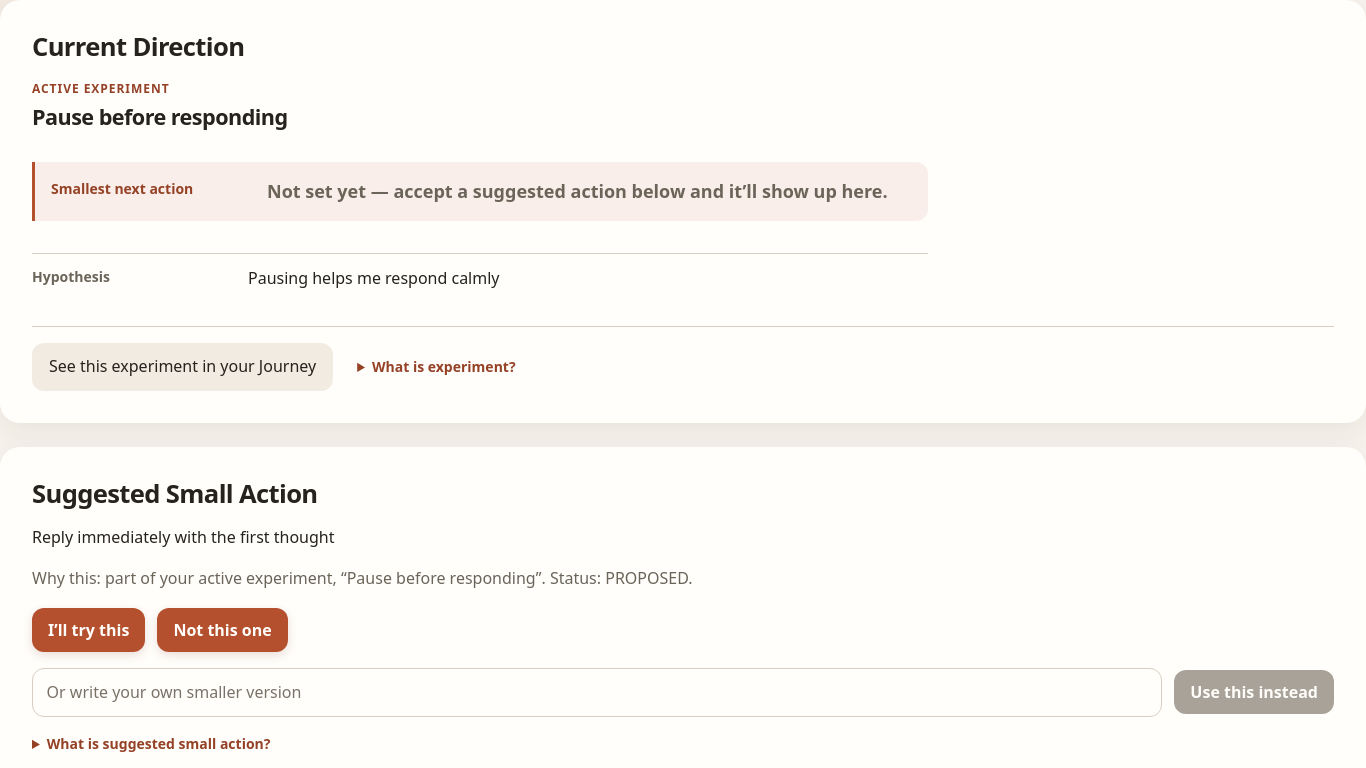
it: TodayPage › shows the replacement text after replacing a suggested action
The image size is (1366, 768).
Expected: the text "Reply immediately with the first thought" is shown, [32,526,334,548]
In the field named "Replacement suggestion": (597,692) [32,668,1162,717], type "Take one breath before replying"
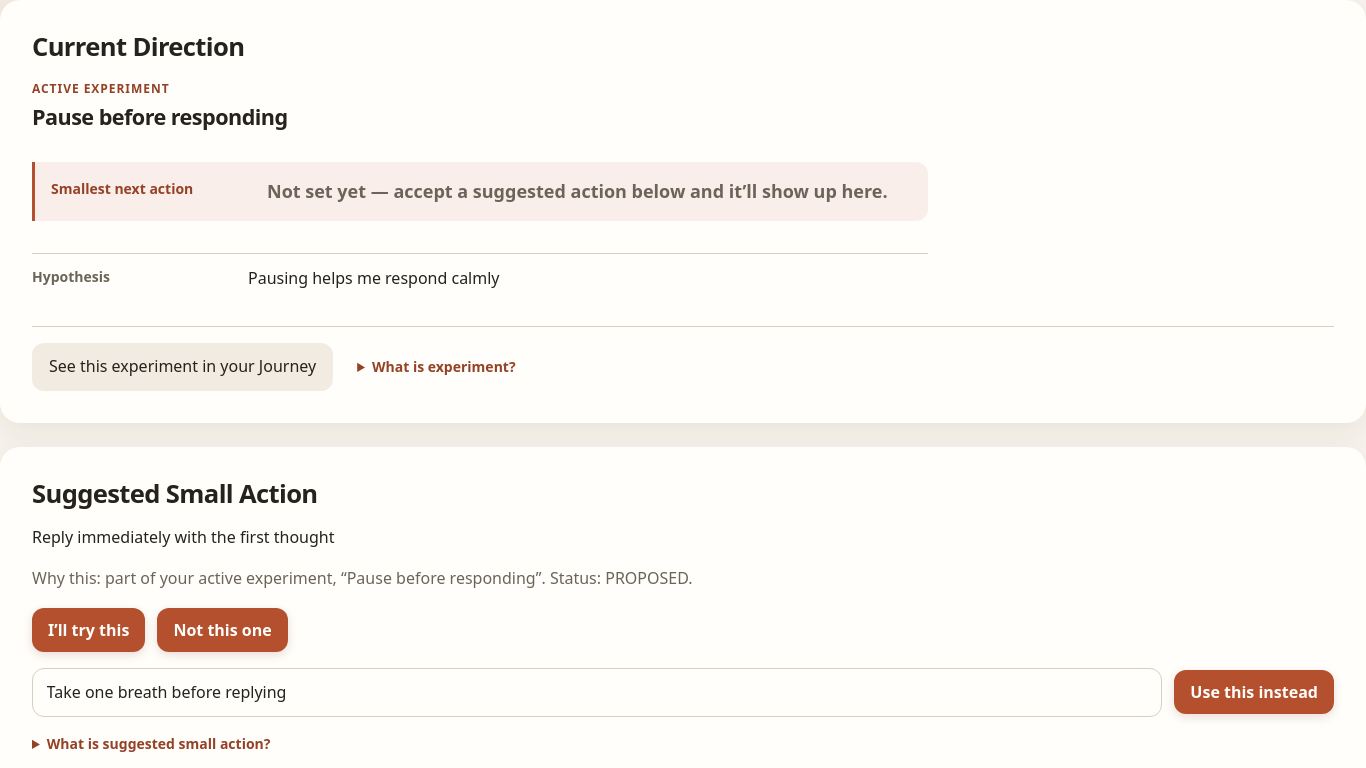
Click the button "Use this instead": (1254,692) [1174,670,1334,714]
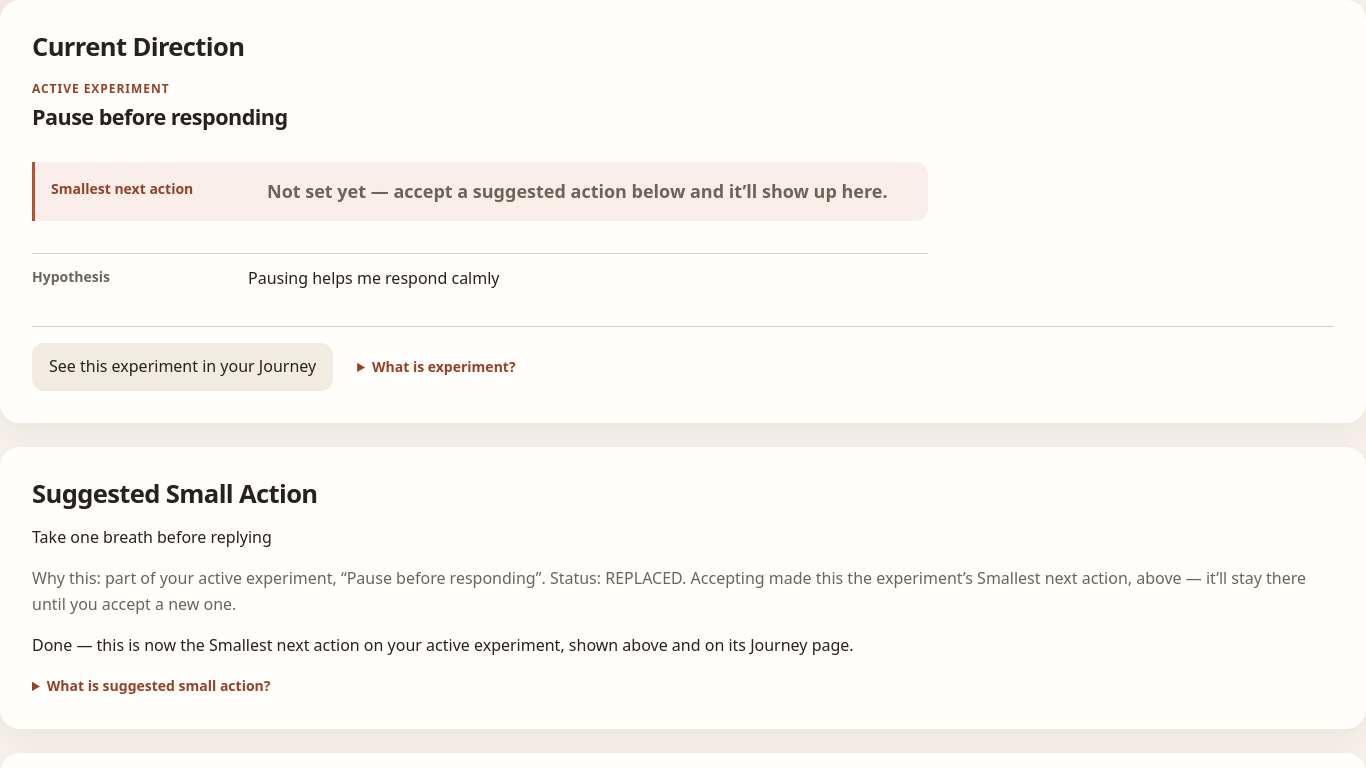
Result: the text "Take one breath before replying" is shown at [32,526,272,548]
Result: the text "Reply immediately with the first thought" is gone
Result: the text "Status: REPLACED" is shown at [32,566,1334,617]
